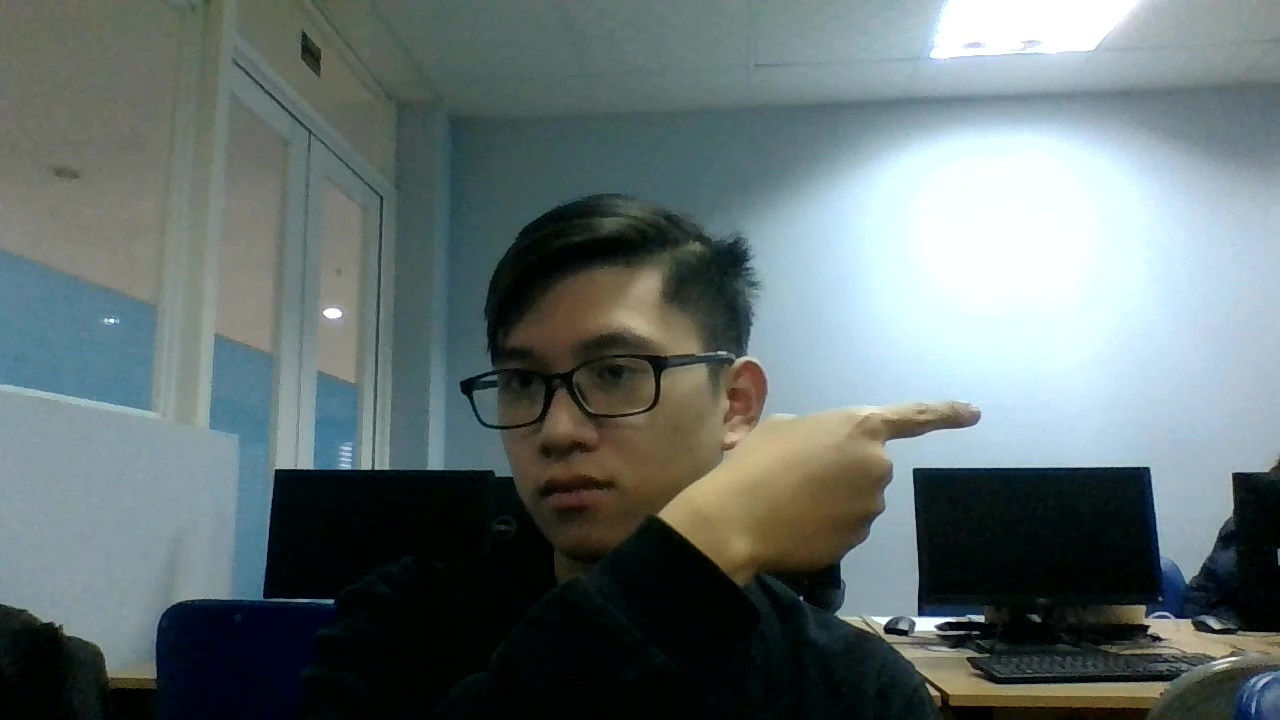left: (739, 385, 986, 555)
